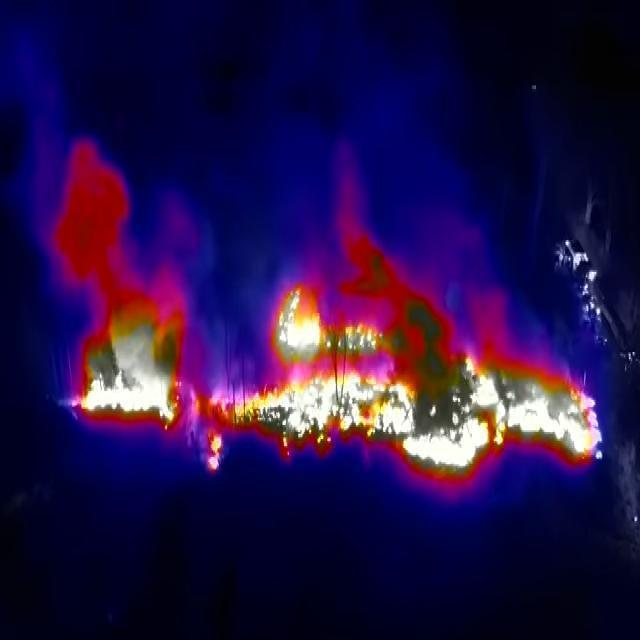fire: (206, 275, 608, 491), (62, 281, 185, 438)
